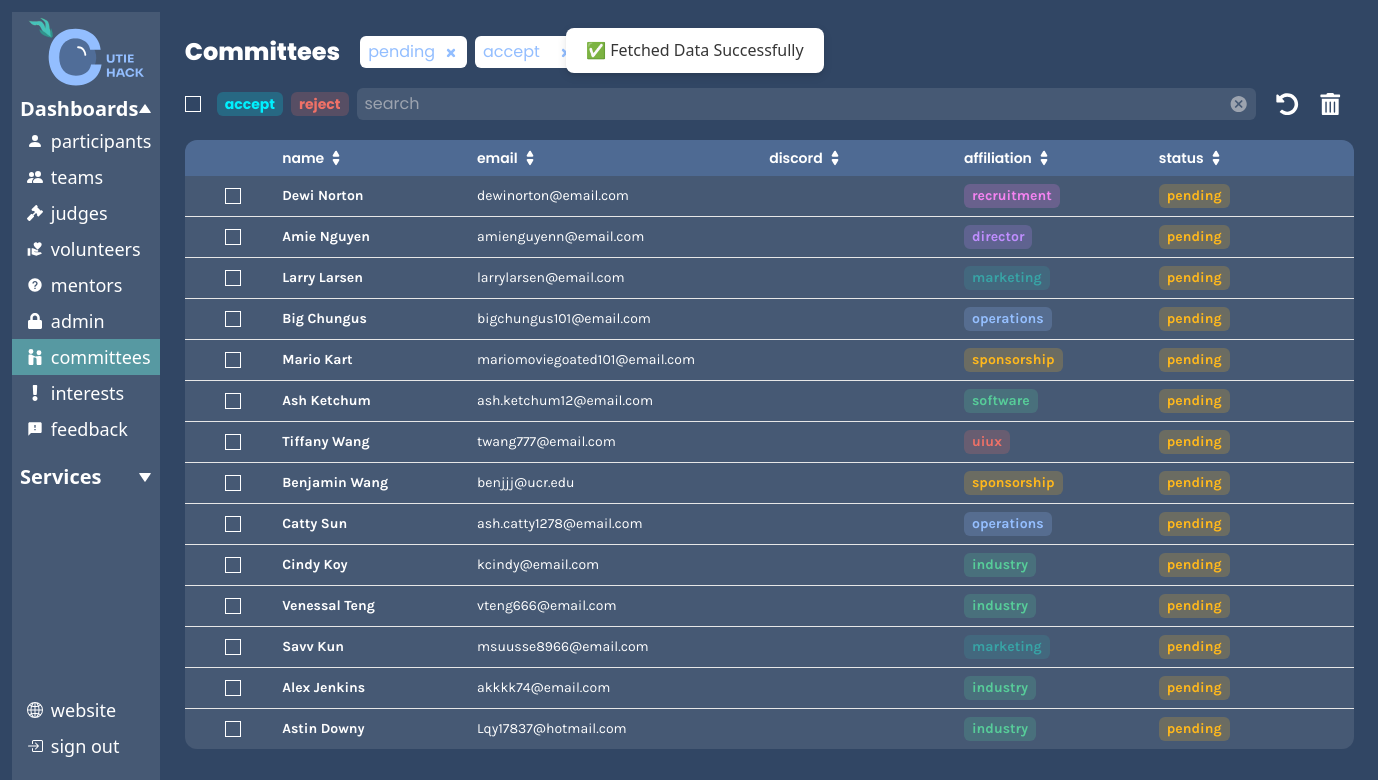
Test: Committee Filters › Click 2 Filters
Click the element with test id "accept-filter": x=529, y=52 [475,36,582,68]
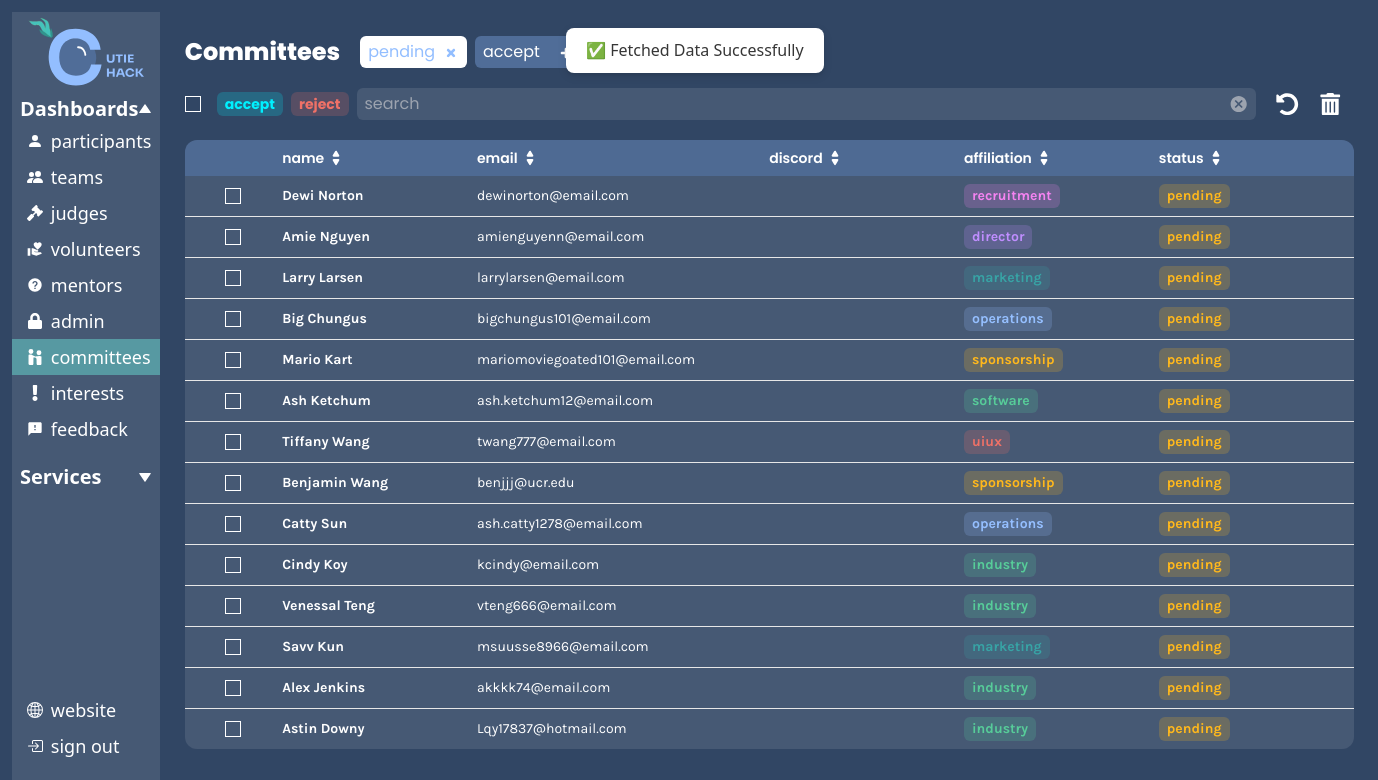
Click the element with test id "pending-filter": x=414, y=52 [360,36,467,68]
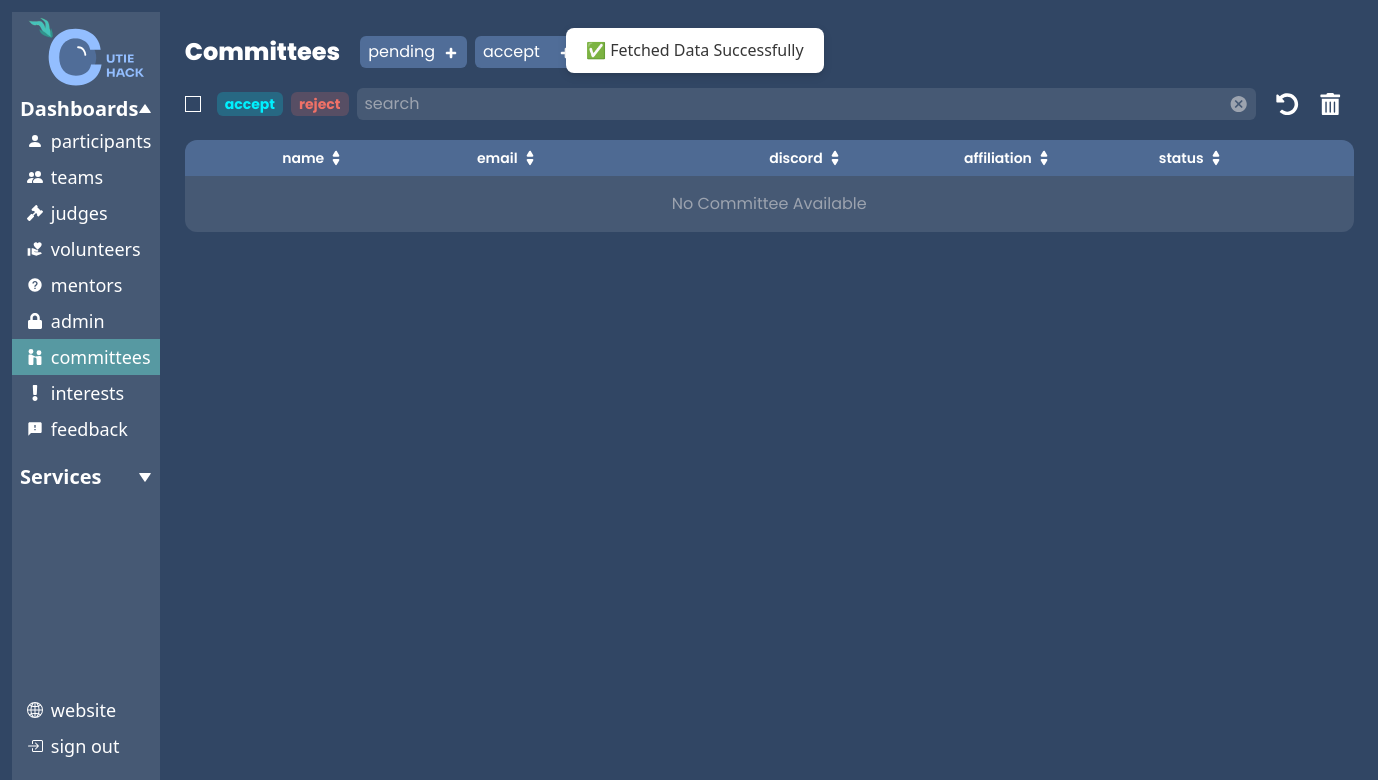
Now the element with test id "1" is gone
Now the element with test id "2" is gone
Now the element with test id "3" is gone
